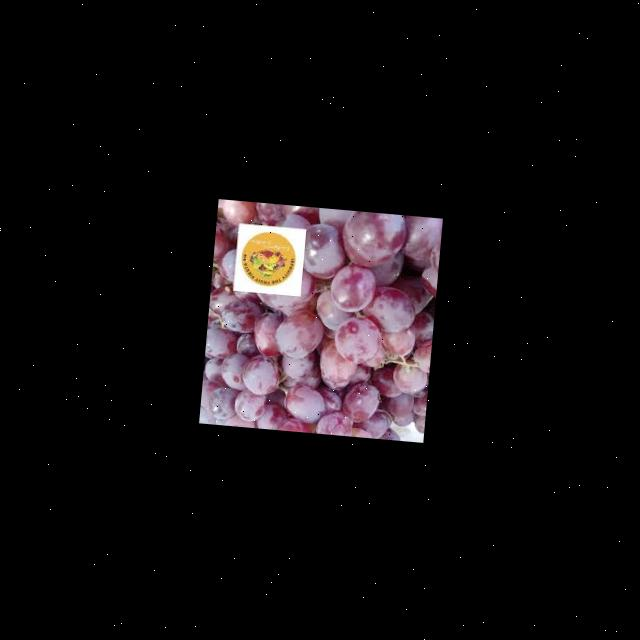grape: (199, 199, 442, 442)
